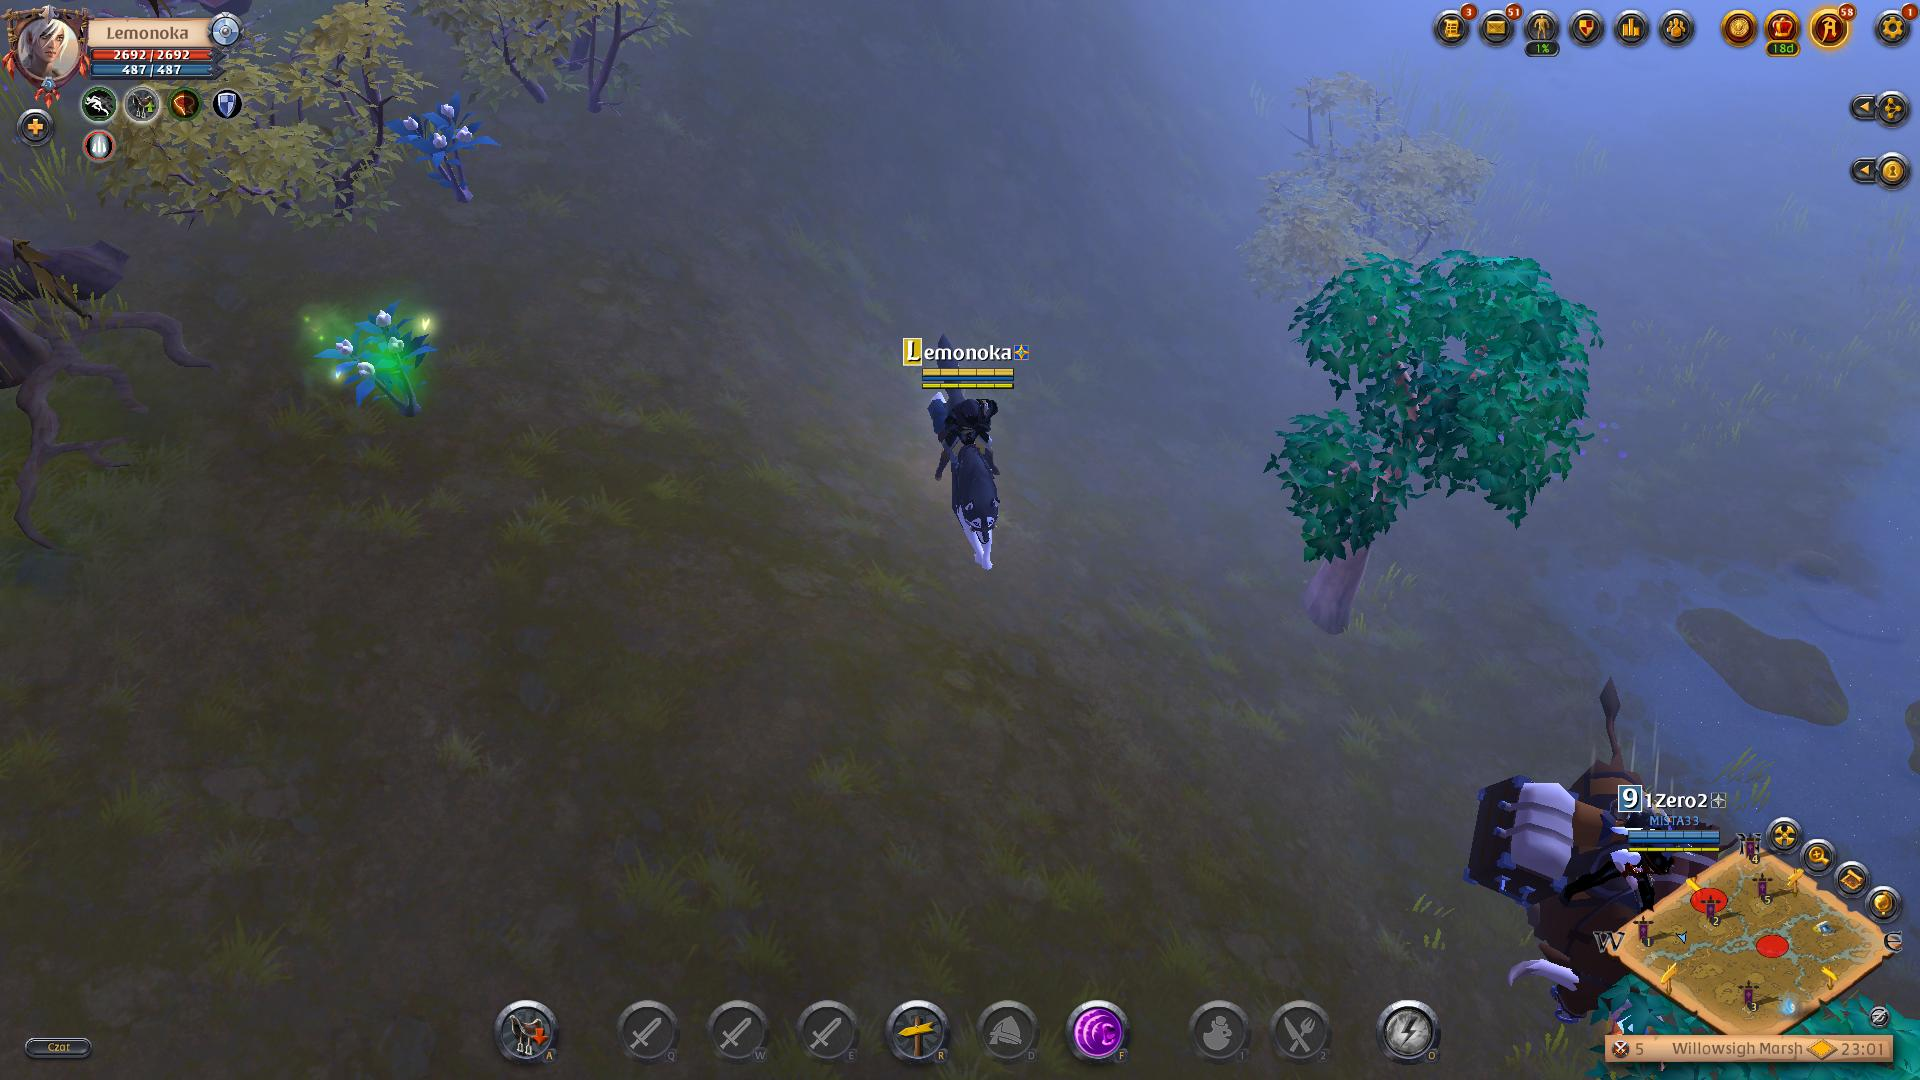fiber tier 4: (315, 298, 448, 425), (392, 96, 500, 202)
wood tier 3: (1271, 253, 1610, 568)
